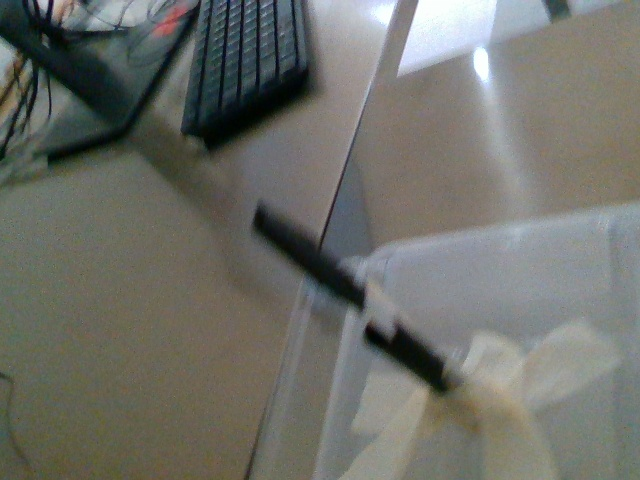test_strip: (249, 197, 395, 337)
